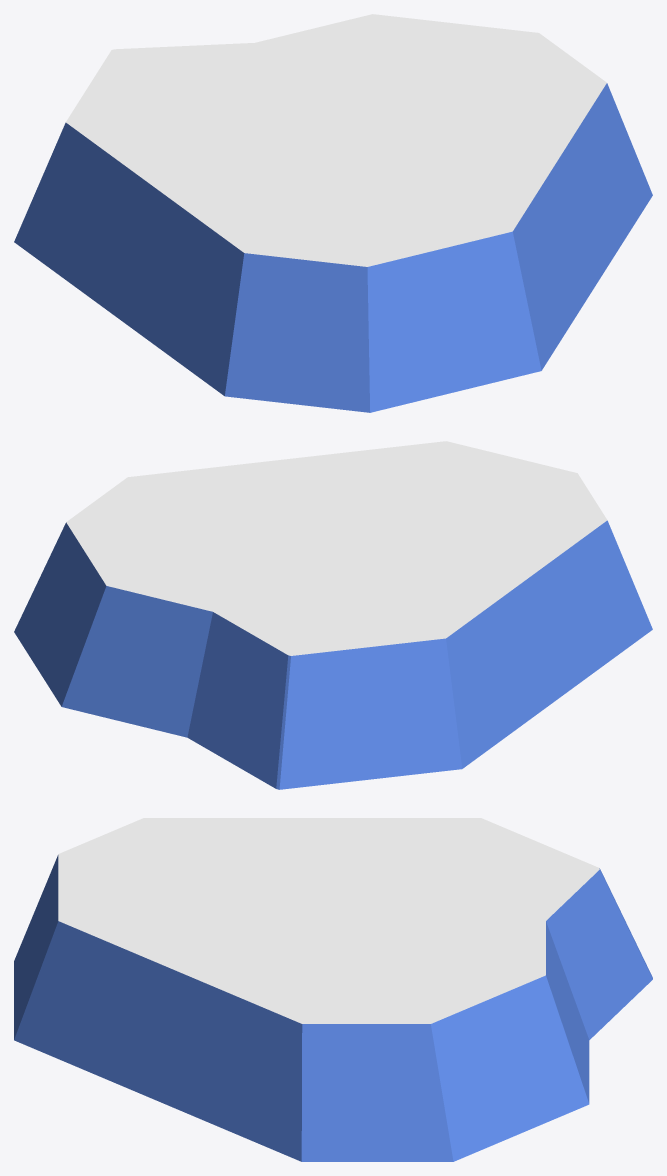
The model's file is Rock025.fbx.
The picture shows the model from 3 angles, top to bottom: view 1: azimuth 30°, elevation 25°; view 2: azimuth 150°, elevation 25°; view 3: azimuth 270°, elevation 25°; orthographic projection. The views are drawn at different scales.
Visible parts, largest first — view 1: Rock025; view 2: Rock025; view 3: Rock025.
Boxes of the visible parts, box(x1,y1,x2,y2) form: Rock025: box(14, 14, 652, 412); Rock025: box(14, 441, 652, 789); Rock025: box(14, 818, 652, 1161).
Bounding box in the file's own units: 80.58 × 18.05 × 89.48.
